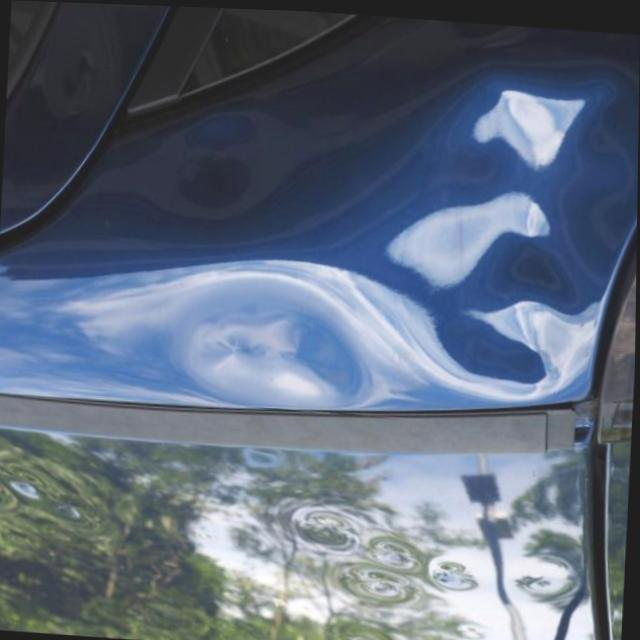Dent: (346, 51, 639, 404), (157, 269, 384, 420), (118, 101, 305, 245), (0, 448, 92, 528), (286, 498, 362, 562), (504, 547, 575, 613), (339, 562, 416, 613), (422, 544, 478, 598), (364, 525, 419, 577), (327, 612, 398, 640), (447, 617, 496, 640)
